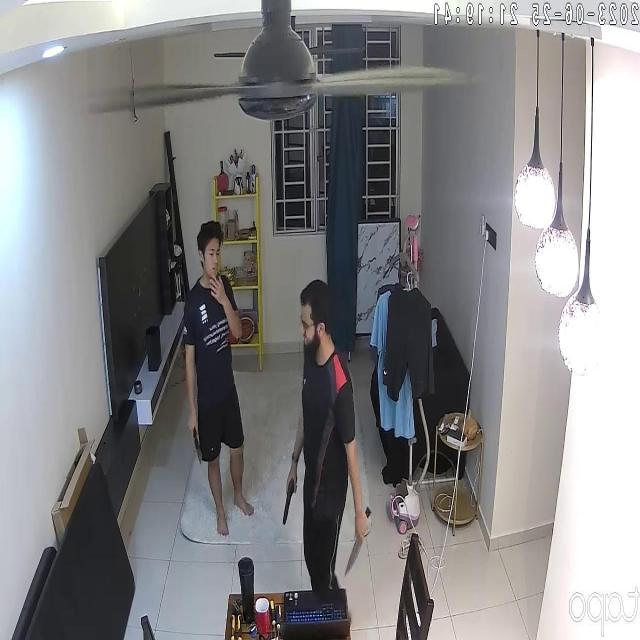Gun: (272, 470, 308, 535)
Knife: (340, 517, 372, 585)
